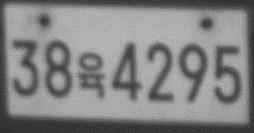2: (146, 42, 176, 103)
3: (12, 39, 38, 95)
4: (110, 42, 143, 102)
5: (213, 44, 241, 104)
8: (45, 39, 72, 98)
9: (179, 42, 207, 105)
육: (75, 51, 107, 100)
